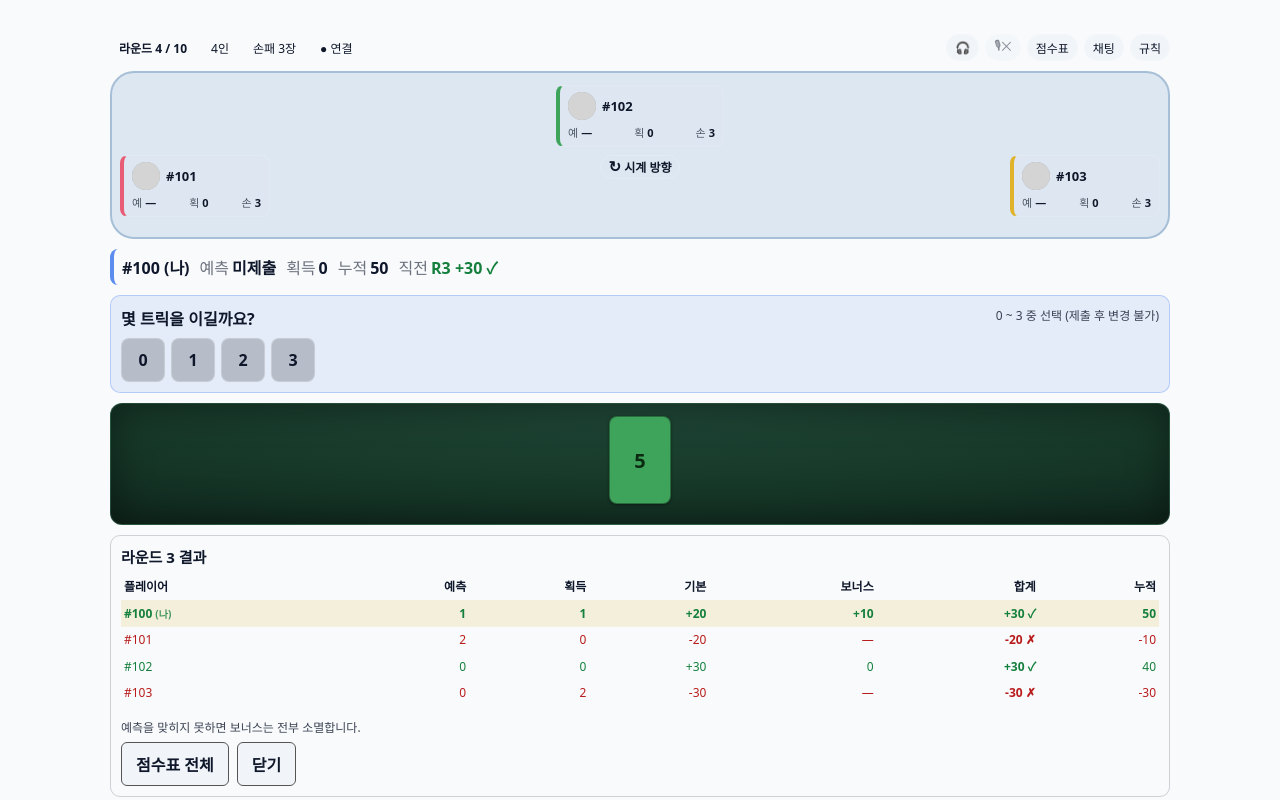
Test: 직전 라운드 결과 — 다음 라운드 예측 중 비차단 표시 (D-120) › 닫으면 그 라운드 결과는 다시 뜨지 않는다
Step 1. Click the button "닫기" → [267, 764], box [237,742,296,786]
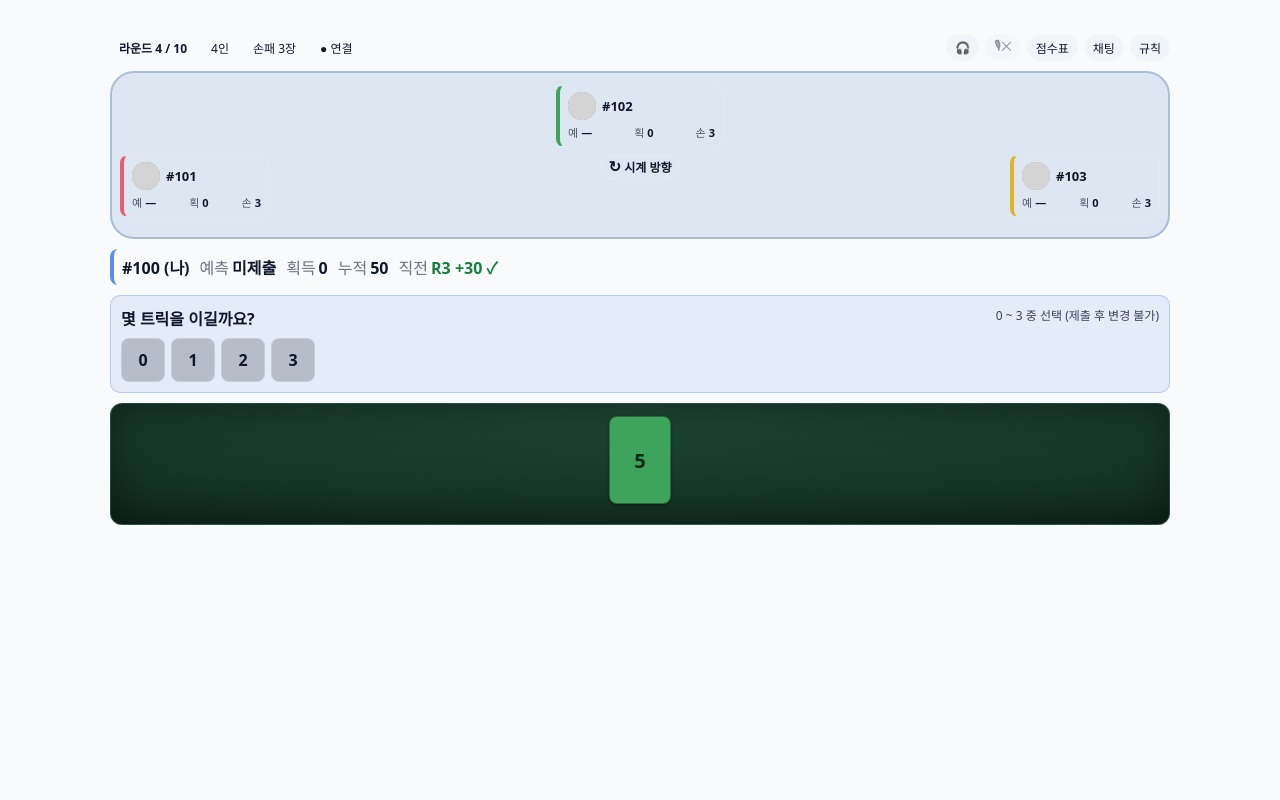
Expected: the heading "라운드 3 결과" is gone
